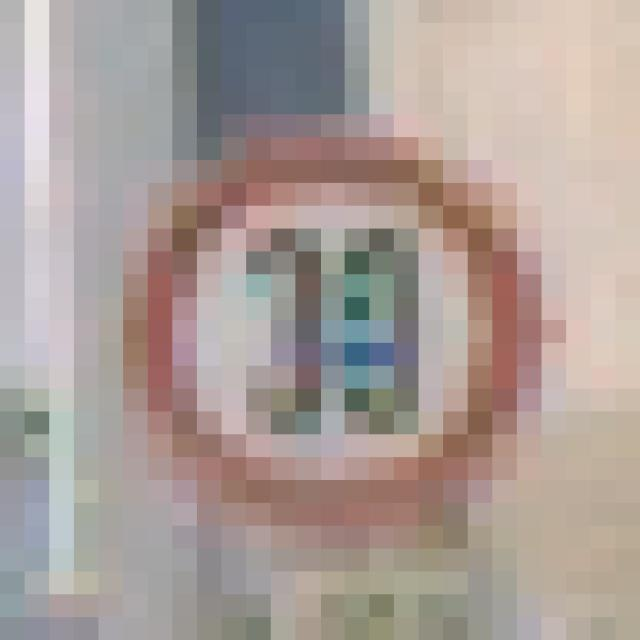Speed Limit -30-: (110, 102, 504, 492)
